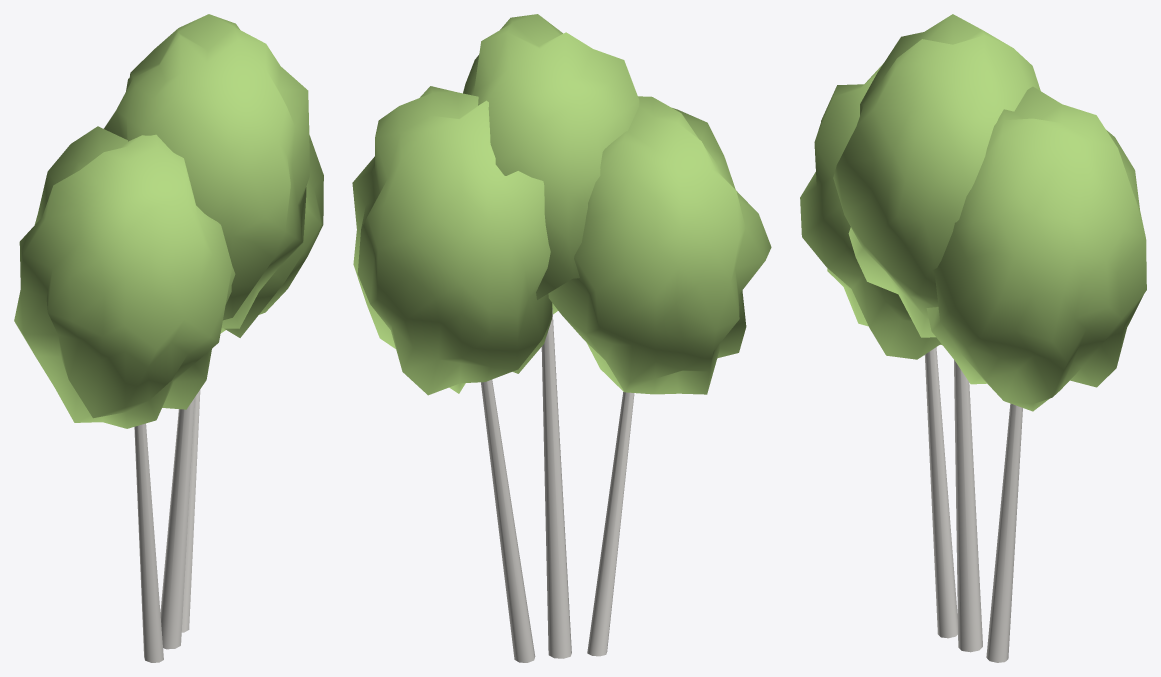
File: birch_cluster.glb
3 renders of one model, left to right at view 1: azimuth 30°, elevation 25°; view 2: azimuth 150°, elevation 25°; view 3: azimuth 270°, elevation 25°, orthographic. The views are drawn at different scales.
Visible parts, largest first — view 1: RootNode; view 2: RootNode; view 3: RootNode.
Part boxes in pixels (x1,y1,x2,y2): RootNode: (14,14,323,662); RootNode: (352,14,771,662); RootNode: (800,14,1146,662).
Size of the model in its own units: 8.9 by 15.75 by 7.79.
